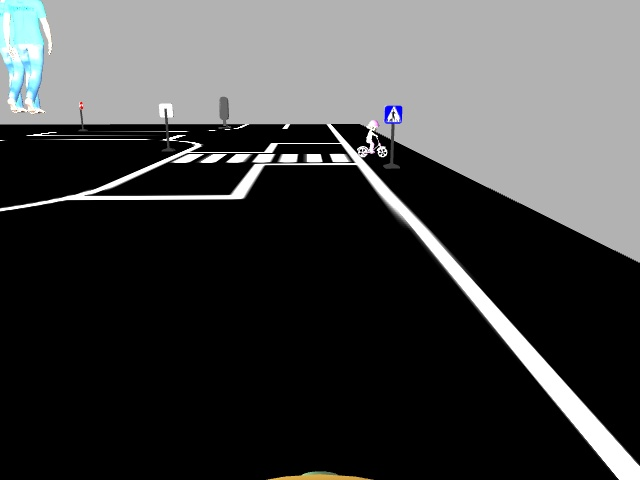Pedestrian: (355, 116, 387, 156)
